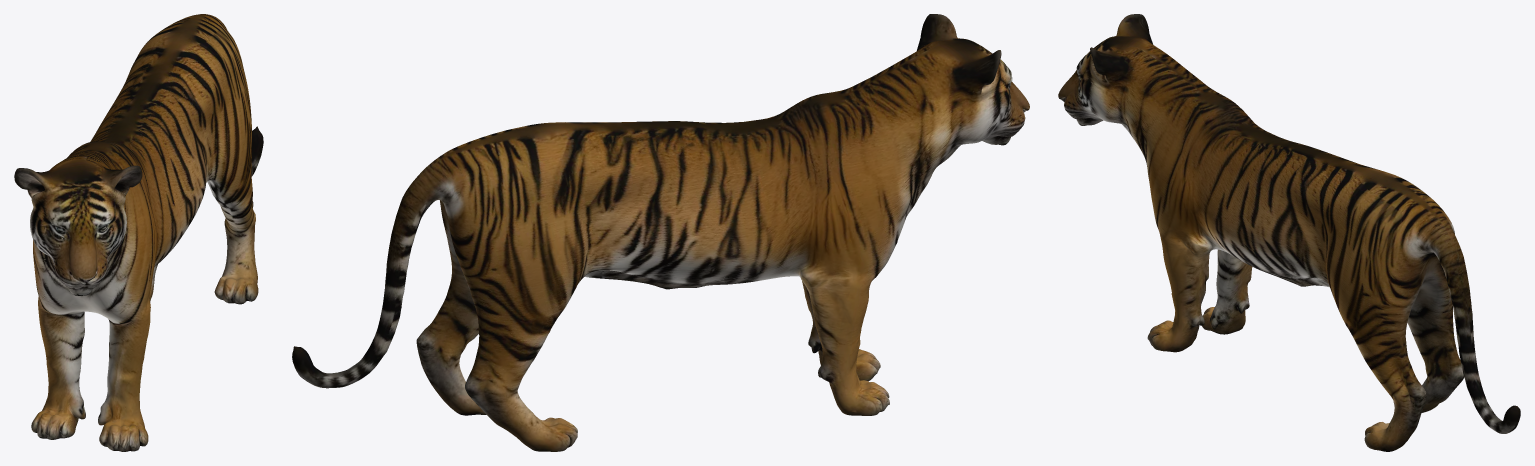
Rendered from tiger--javan.glb.
The picture shows the model from 3 angles, left to right: view 1: azimuth 30°, elevation 25°; view 2: azimuth 150°, elevation 25°; view 3: azimuth 270°, elevation 25°; orthographic projection. The views are drawn at different scales.
Visible parts, largest first — view 1: node_0; view 2: node_0; view 3: node_0.
Part boxes in pixels (box(x1,y1,x2,y2)): node_0: box(14, 14, 263, 451); node_0: box(292, 14, 1029, 451); node_0: box(1058, 14, 1520, 451).
Bounding box in the file's own units: 0.8331 × 0.5571 × 0.8329.
1 material, 1 textured.
